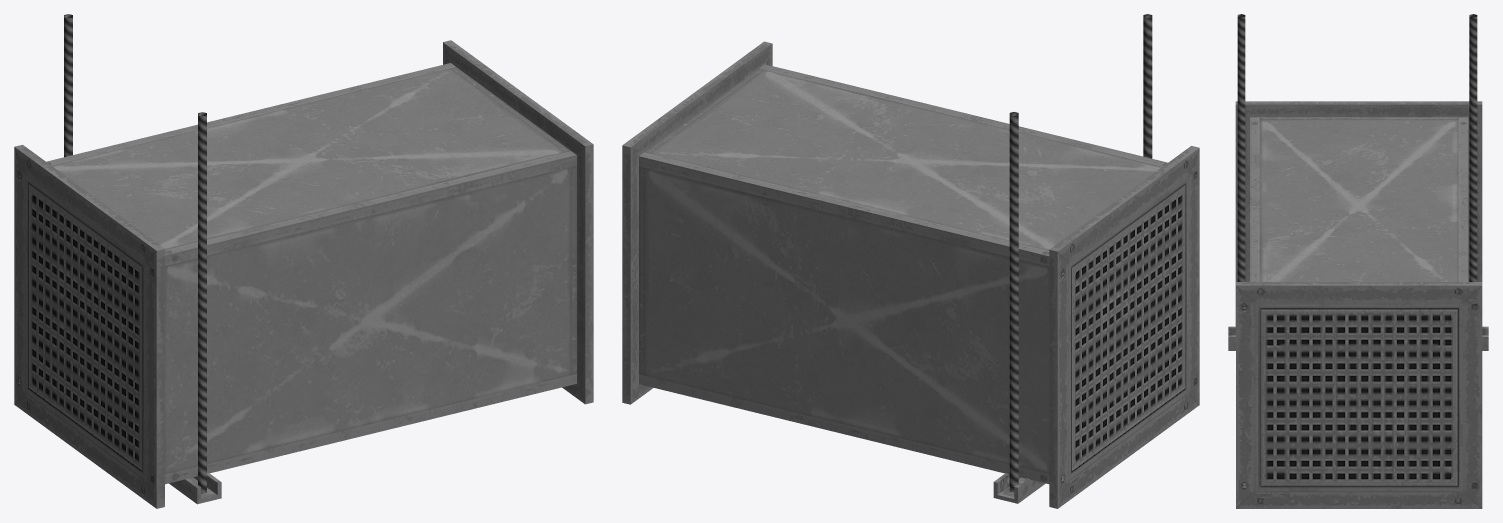
The model's file is HH_Ventilation_1m_01.fbx.
The picture shows the model from 3 angles, left to right: view 1: azimuth 30°, elevation 25°; view 2: azimuth 150°, elevation 25°; view 3: azimuth 270°, elevation 25°; orthographic projection. The views are drawn at different scales.
Visible parts, largest first — view 1: HH_Ventilation_1m_01; view 2: HH_Ventilation_1m_01; view 3: HH_Ventilation_1m_01.
Part boxes in pixels (left/top/right/bottom): HH_Ventilation_1m_01: left=14, top=14, right=593, bottom=508; HH_Ventilation_1m_01: left=622, top=14, right=1199, bottom=508; HH_Ventilation_1m_01: left=1228, top=14, right=1488, bottom=508.
Bounding box in the file's own units: 100 × 83.44 × 59.65.
